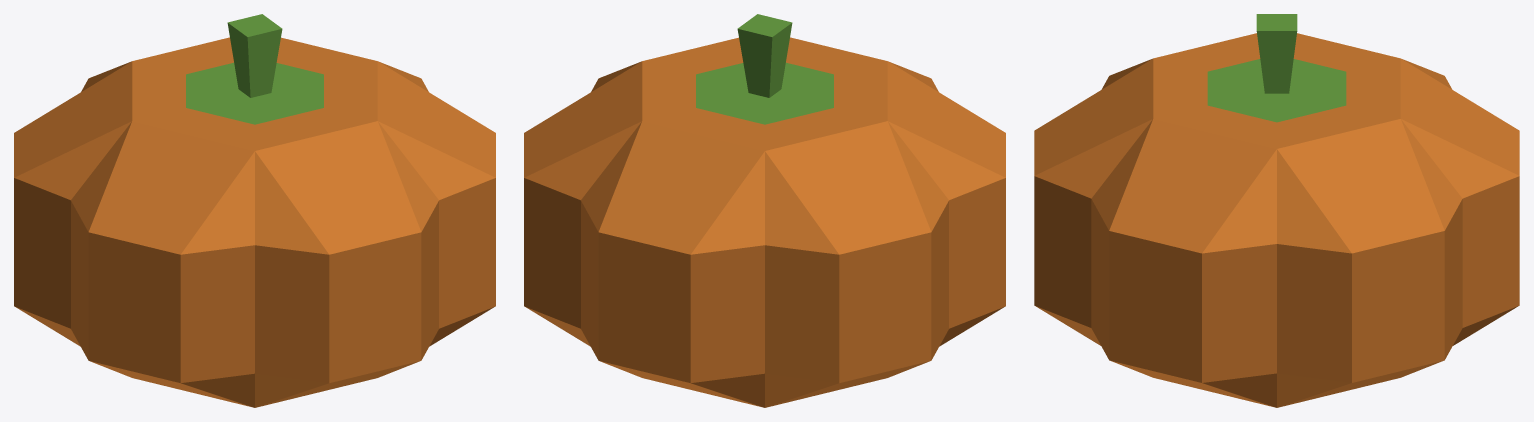
The model's file is crop_pumpkin.glb.
The picture shows the model from 3 angles, left to right: view 1: azimuth 30°, elevation 25°; view 2: azimuth 150°, elevation 25°; view 3: azimuth 270°, elevation 25°; orthographic projection.
Visible parts, largest first — view 1: crop_pumpkin; view 2: crop_pumpkin; view 3: crop_pumpkin.
Part boxes in pixels (<box>): crop_pumpkin: <box>14,14,495,407</box>; crop_pumpkin: <box>524,14,1005,407</box>; crop_pumpkin: <box>1034,14,1519,407</box>.
Bounding box in the file's own units: 0.4413 × 0.3338 × 0.4519.
